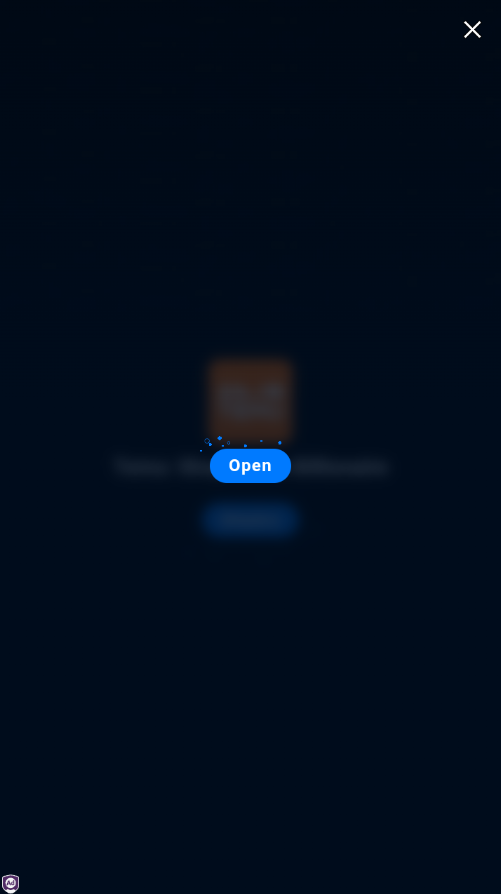close_button: (458, 14, 485, 43)
